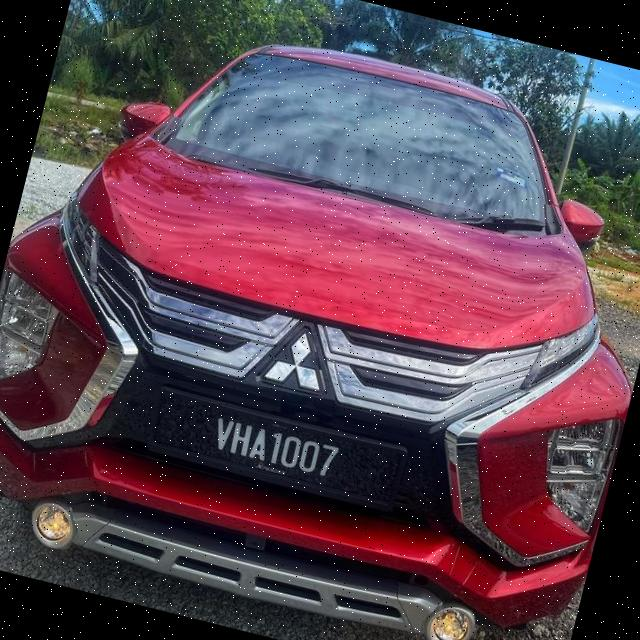License_Plate: (137, 382, 430, 527)
car: (1, 1, 640, 640)
